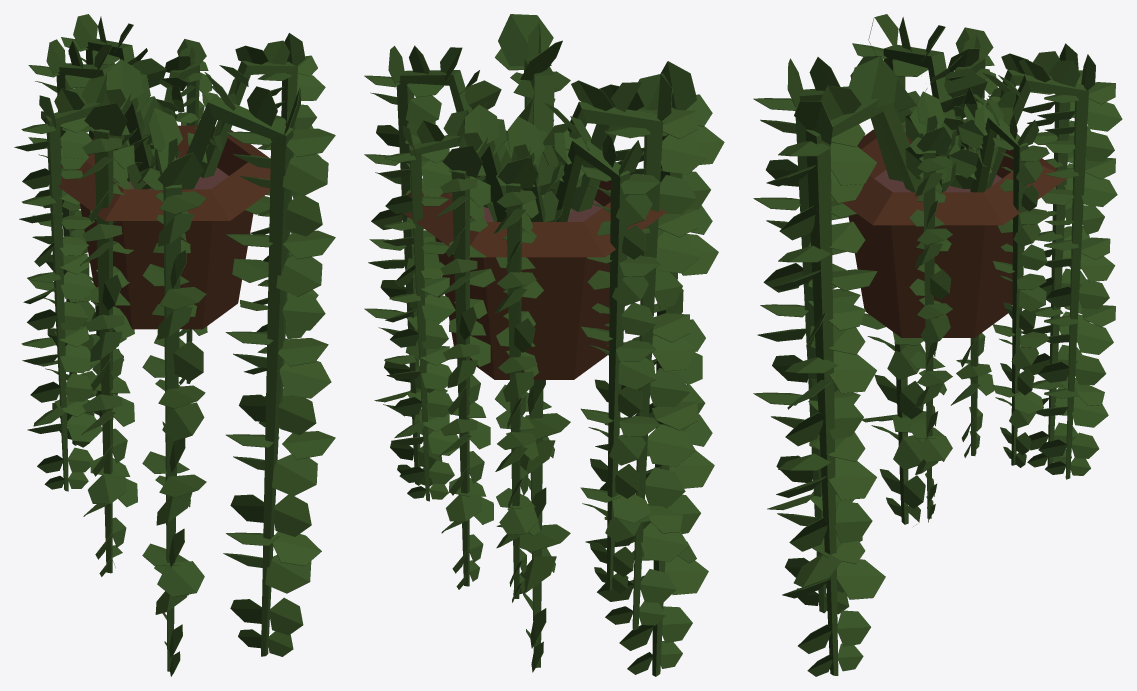
The model's file is pot.glb.
The picture shows the model from 3 angles, left to right: view 1: azimuth 30°, elevation 25°; view 2: azimuth 150°, elevation 25°; view 3: azimuth 270°, elevation 25°; orthographic projection. The views are drawn at different scales.
Parts seen in each view (by area): view 1: FlowerPot2; view 2: FlowerPot2; view 3: FlowerPot2.
Boxes of the visible parts, x1,y1,x2,y2 form: FlowerPot2: [14, 14, 335, 676]; FlowerPot2: [364, 14, 724, 676]; FlowerPot2: [753, 14, 1122, 676].
Bounding box in the file's own units: 0.8771 × 1.75 × 0.9693.
